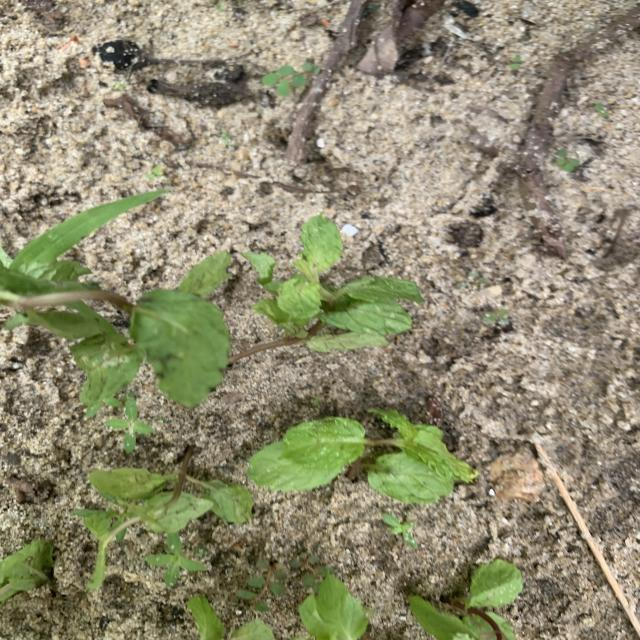crop: (1, 191, 231, 416), (252, 216, 422, 351), (248, 409, 475, 503), (75, 468, 251, 589), (410, 560, 521, 639), (299, 572, 367, 639), (188, 597, 274, 639), (1, 540, 52, 601)
weed: (145, 535, 204, 585), (106, 396, 152, 452), (237, 563, 287, 611), (262, 62, 319, 95), (289, 556, 328, 587), (383, 514, 416, 547), (554, 149, 579, 172), (482, 309, 510, 328), (147, 166, 164, 179), (594, 104, 608, 118), (509, 55, 521, 71)
